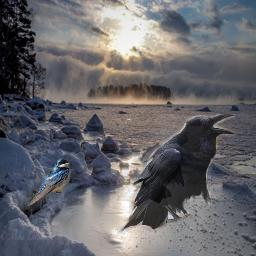Crow: (117, 114, 235, 236)
Swallow: (28, 157, 71, 207)
